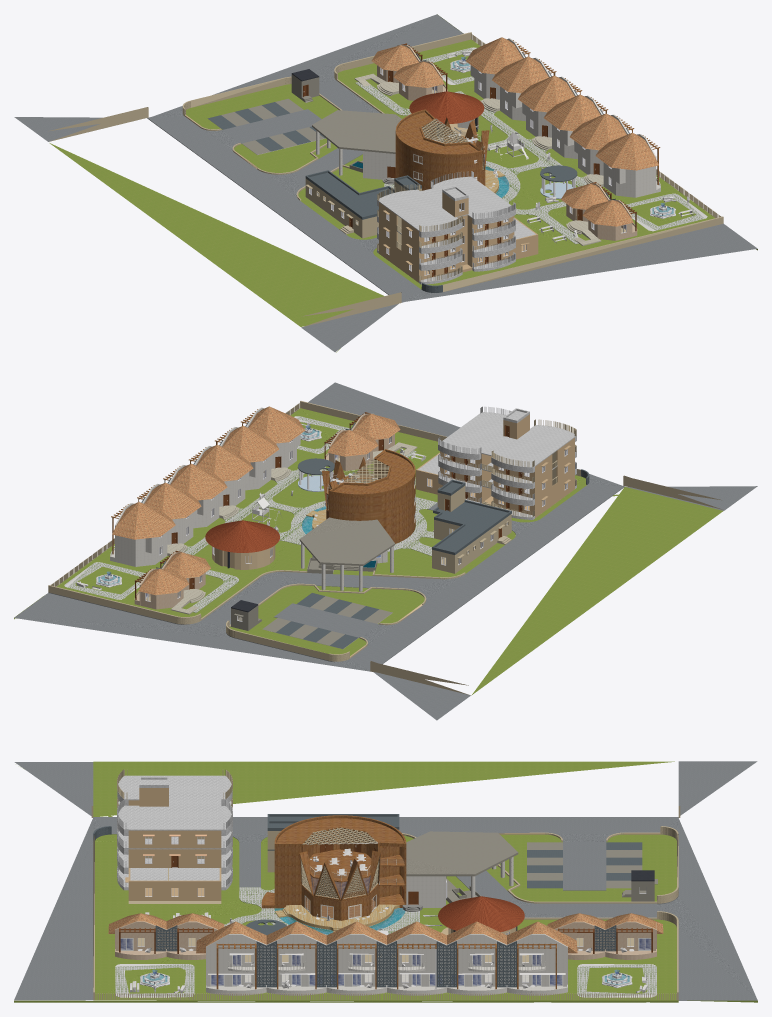
Rendered from resort.glb.
3 views of the same model, one above another, from view 1: azimuth 30°, elevation 25°; view 2: azimuth 150°, elevation 25°; view 3: azimuth 270°, elevation 25° (orthographic). The views are drawn at different scales.
Visible parts, largest first — view 1: [Grass Light Green], [Blacktop Old 01], [Roofing Scalloped], [Quartz Light Brown], [Carrera Marble], [Terrazzo Tile Light], [Wood Floor], <auto>3, [Formica Graystone], [Pavers with Grass Brick], [Formica Speckled Grey], [Roofing Tile Spanish] (+5 smaller); view 2: [Grass Light Green], [Blacktop Old 01], [Roofing Scalloped], [Quartz Light Brown], [Carrera Marble], [Wood Floor], [Formica Graystone], [Terrazzo Tile Light], <auto>3, [Pavers with Grass Brick], [Formica Speckled Grey], [Roofing Tile Spanish] (+6 smaller); view 3: [Grass Light Green], [Blacktop Old 01], [Terrazzo Tile Light], [Wood Floor], [Quartz Light Brown], [Formica Speckled Grey], [Carrera Marble], [Formica Graystone], [Roofing Scalloped], <auto>3, [Formica Laminate Light], [Pavers with Grass Brick] (+10 smaller).
Part boxes in pixels (bbox=[...]): [Grass Light Green]: bbox=[49, 14, 757, 352]; [Blacktop Old 01]: bbox=[14, 14, 757, 352]; [Roofing Scalloped]: bbox=[371, 37, 658, 226]; [Quartz Light Brown]: bbox=[48, 32, 723, 326]; [Carrera Marble]: bbox=[377, 171, 535, 284]; [Terrazzo Tile Light]: bbox=[316, 38, 660, 197]; [Wood Floor]: bbox=[395, 40, 660, 190]; <auto>3: bbox=[303, 76, 595, 282]; [Formica Graystone]: bbox=[221, 74, 401, 172]; [Pavers with Grass Brick]: bbox=[355, 48, 704, 244]; [Formica Speckled Grey]: bbox=[208, 52, 629, 292]; [Roofing Tile Spanish]: bbox=[409, 91, 484, 123]; [Grass Light Green]: bbox=[14, 408, 722, 695]; [Blacktop Old 01]: bbox=[14, 382, 757, 720]; [Roofing Scalloped]: bbox=[112, 406, 400, 595]; [Quartz Light Brown]: bbox=[48, 401, 722, 694]; [Carrera Marble]: bbox=[418, 406, 576, 519]; [Wood Floor]: bbox=[111, 409, 415, 554]; [Formica Graystone]: bbox=[231, 517, 395, 645]; [Terrazzo Tile Light]: bbox=[110, 407, 393, 591]; <auto>3: bbox=[175, 414, 574, 584]; [Pavers with Grass Brick]: bbox=[68, 416, 436, 612]; [Formica Speckled Grey]: bbox=[141, 421, 589, 648]; [Roofing Tile Spanish]: bbox=[205, 520, 279, 552]; [Grass Light Green]: bbox=[14, 761, 757, 1002]; [Blacktop Old 01]: bbox=[14, 761, 757, 1000]; [Terrazzo Tile Light]: bbox=[206, 857, 567, 995]; [Wood Floor]: bbox=[216, 815, 556, 989]; [Quartz Light Brown]: bbox=[91, 769, 680, 1000]; [Formica Speckled Grey]: bbox=[93, 814, 642, 987]; [Carrera Marble]: bbox=[117, 775, 232, 890]; [Formica Graystone]: bbox=[406, 831, 657, 903]; [Roofing Scalloped]: bbox=[108, 913, 663, 953]; <auto>3: bbox=[125, 788, 402, 926]; [Formica Laminate Light]: bbox=[115, 921, 656, 959]; [Pavers with Grass Brick]: bbox=[115, 887, 656, 997].
Size of the model in its own units: 78.33 by 13.69 by 103.
Materials: 33 (32 with a texture image).
